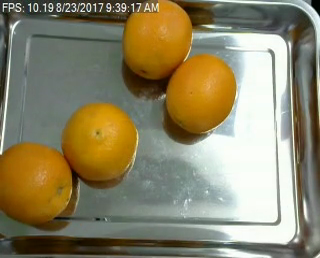Orange: (62, 102, 138, 183), (1, 140, 73, 224), (122, 1, 193, 80), (165, 53, 235, 133)
